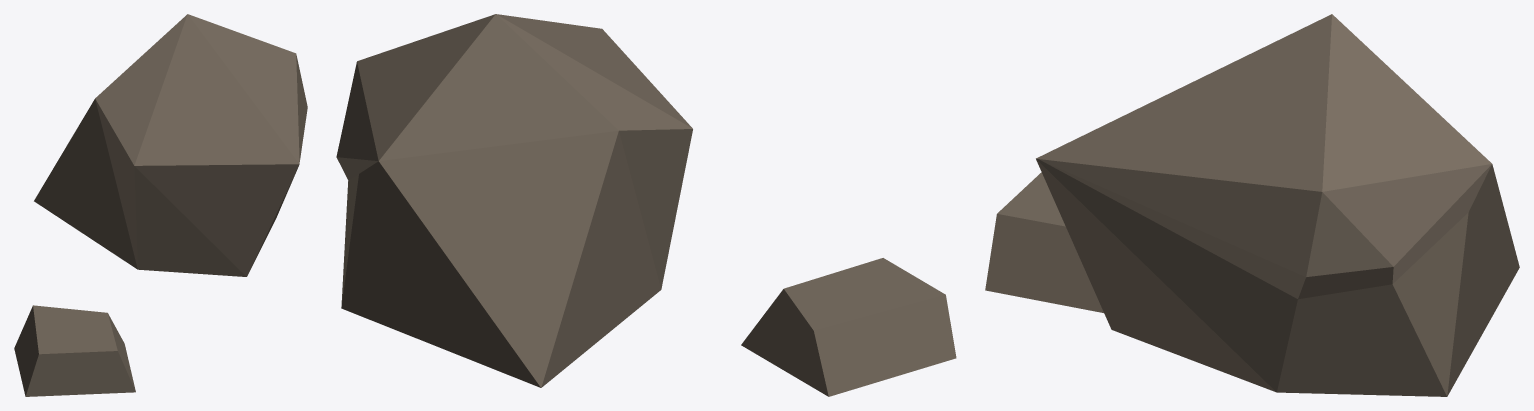
Rendered from ston4.FBX.
The picture shows the model from 3 angles, left to right: view 1: azimuth 30°, elevation 25°; view 2: azimuth 150°, elevation 25°; view 3: azimuth 270°, elevation 25°; orthographic projection. The views are drawn at different scales.
Visible parts, largest first — view 1: Stone_10; view 2: Stone_10; view 3: Stone_10.
Part boxes in pixels (bbox=[...]): Stone_10: bbox=[14, 14, 307, 396]; Stone_10: bbox=[336, 14, 956, 396]; Stone_10: bbox=[985, 14, 1519, 396].
Bounding box in the file's own units: 96.09 × 65.13 × 78.84.
